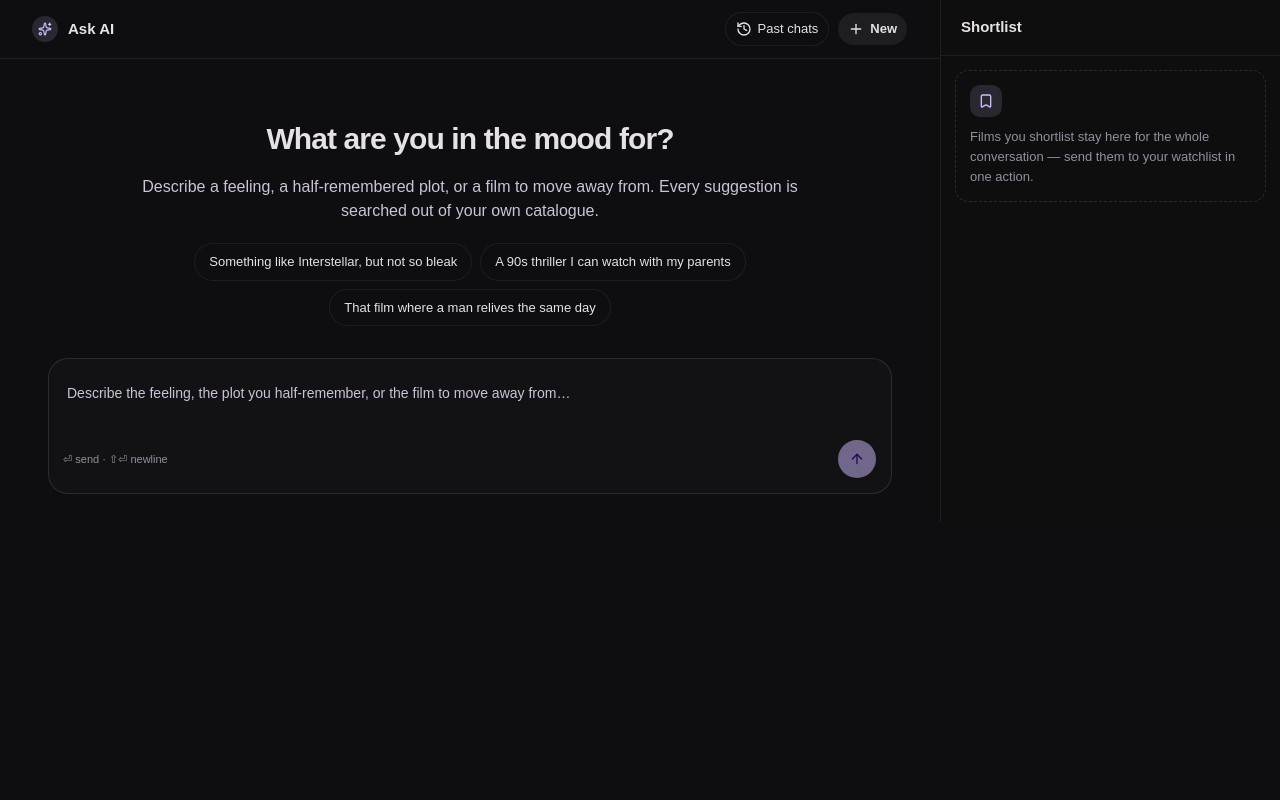
AskPageContent › surfaces a failed load instead of leaving the click silent
Step 1. Click the button "Past chats" → (777, 29), box [725,12,829,46]
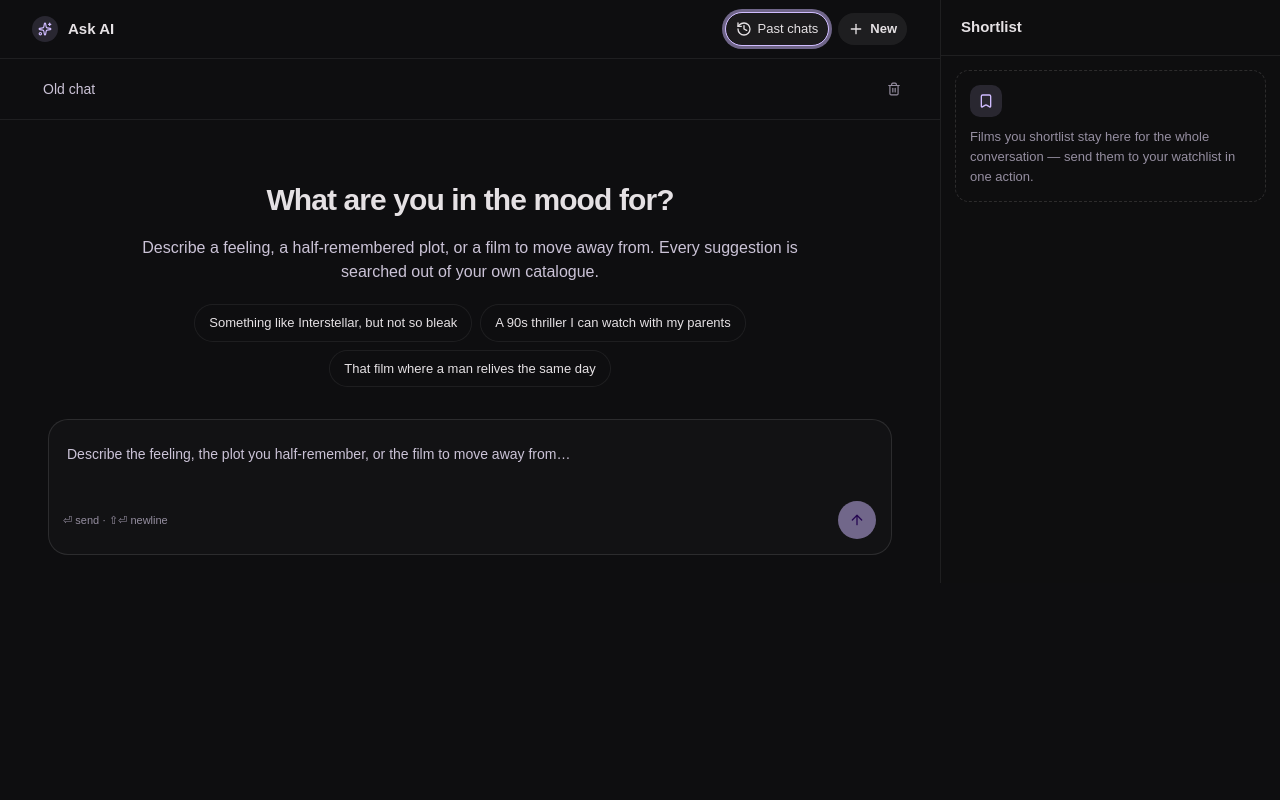
Step 2. Click the button "Old chat" → (69, 89), box [32,71,876,107]
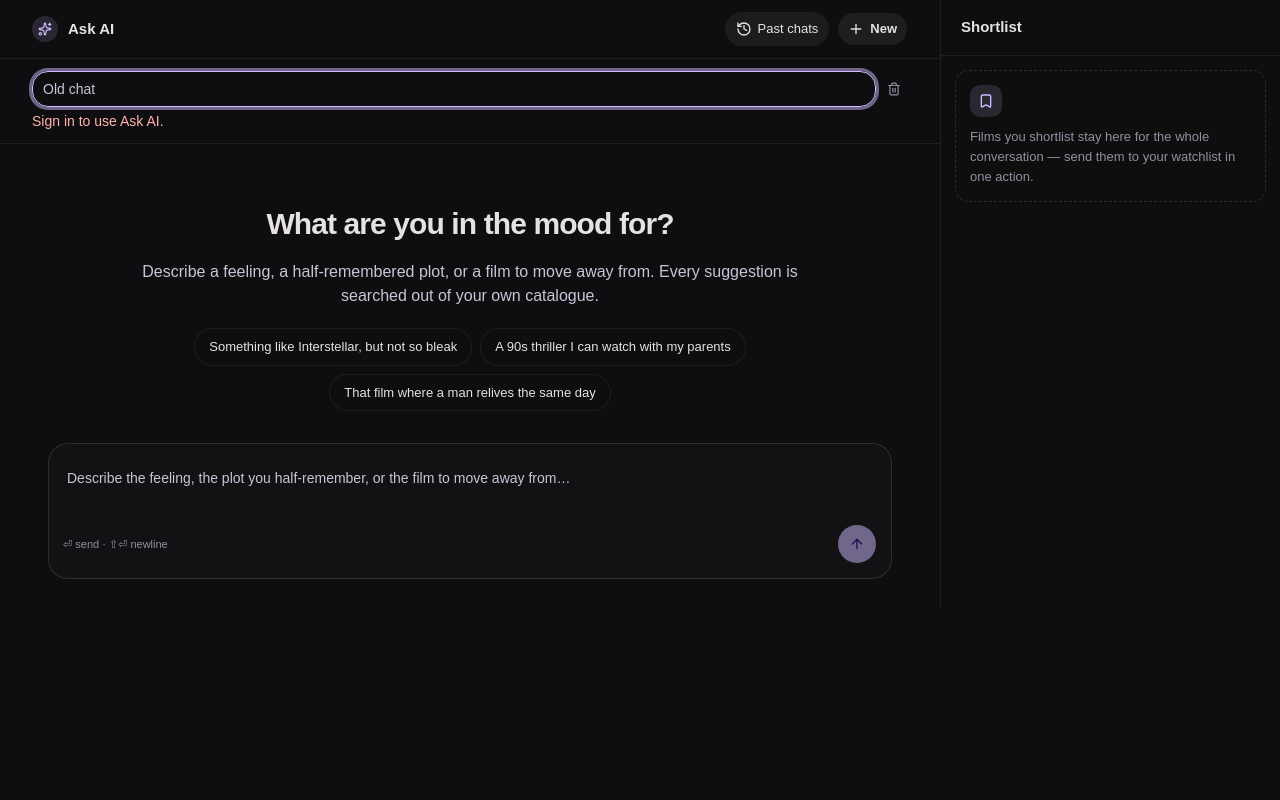
Now the message reads "Sign in to use Ask AI.", box [32,113,164,129]
